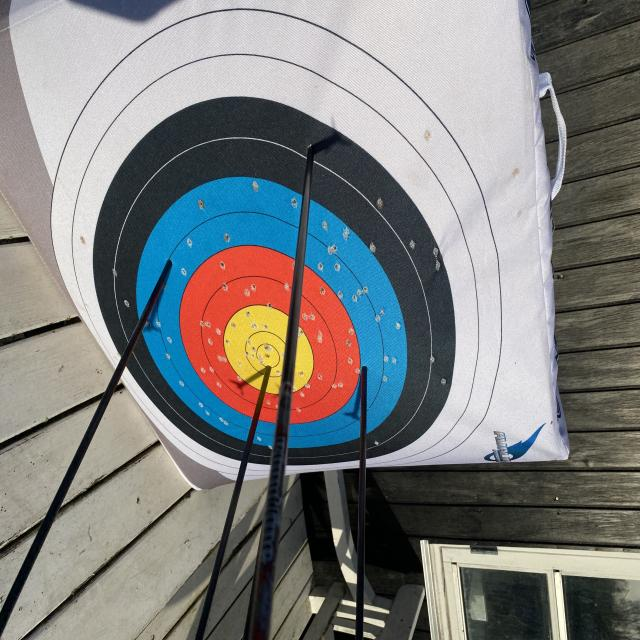Arrow_Black: (294, 130, 327, 166)
Arrow_Blue: (157, 246, 187, 284), (356, 352, 380, 390)
Arrow_Yellow: (257, 358, 278, 383)
